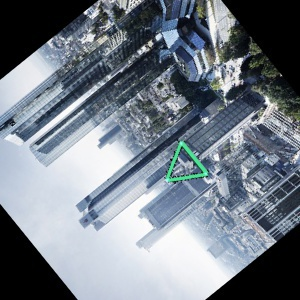triangle: (164, 139, 210, 181)
